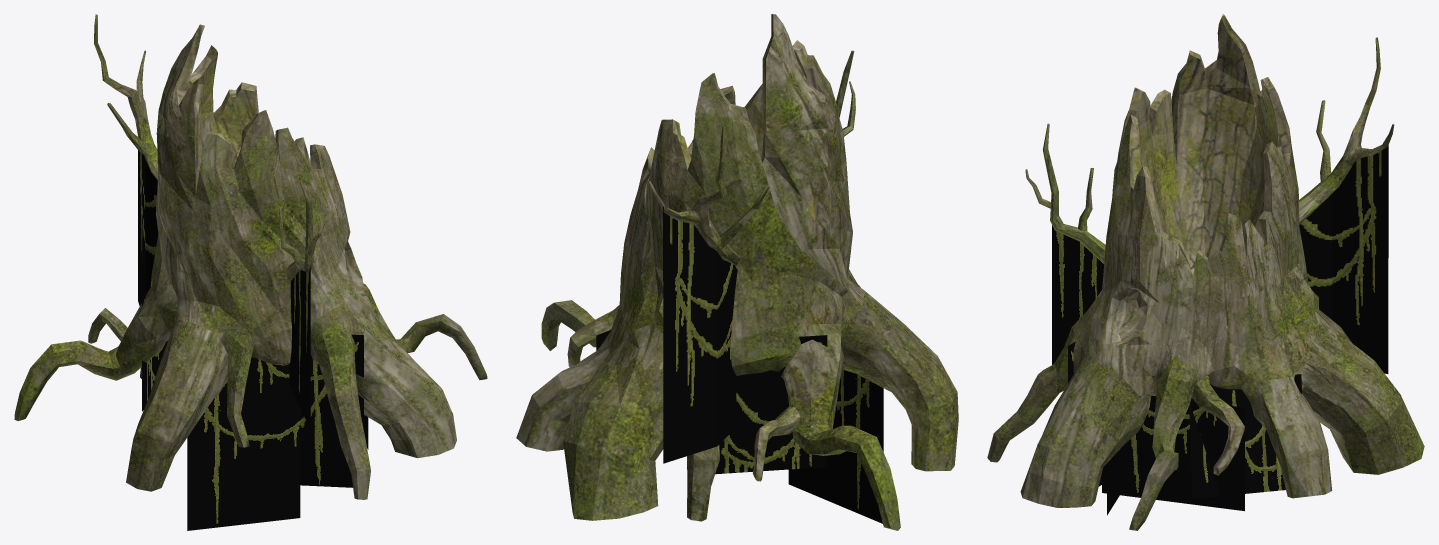
File: bg_atm_tree_oldtree01_sm_old.FBX
The picture shows the model from 3 angles, left to right: view 1: azimuth 30°, elevation 25°; view 2: azimuth 150°, elevation 25°; view 3: azimuth 270°, elevation 25°; orthographic projection. The views are drawn at different scales.
Parts seen in each view (by area): view 1: bg_atm_tree_oldtree01_sm_old; view 2: bg_atm_tree_oldtree01_sm_old; view 3: bg_atm_tree_oldtree01_sm_old.
Part boxes in pixels (box(x1,y1,x2,y2)): bg_atm_tree_oldtree01_sm_old: box(14, 14, 487, 530); bg_atm_tree_oldtree01_sm_old: box(516, 14, 958, 530); bg_atm_tree_oldtree01_sm_old: box(987, 14, 1424, 530).
Bounding box in the file's own units: 389 × 439 × 363.
